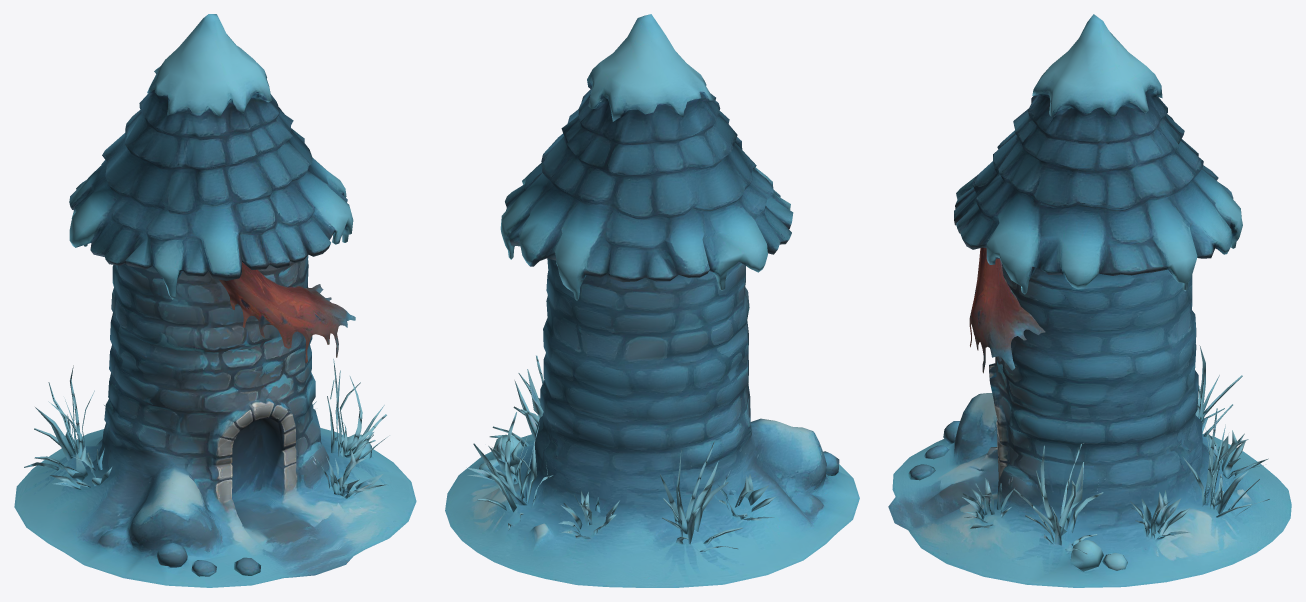
3 views of the same model, side by side, from view 1: azimuth 30°, elevation 25°; view 2: azimuth 150°, elevation 25°; view 3: azimuth 270°, elevation 25° (orthographic).
Visible parts, largest first — view 1: tripo_node_dd9947cd-6d1a-4929-b55b-4e95f97fa883; view 2: tripo_node_dd9947cd-6d1a-4929-b55b-4e95f97fa883; view 3: tripo_node_dd9947cd-6d1a-4929-b55b-4e95f97fa883.
Part boxes in pixels (<box>): tripo_node_dd9947cd-6d1a-4929-b55b-4e95f97fa883: <box>14,14,416,587</box>; tripo_node_dd9947cd-6d1a-4929-b55b-4e95f97fa883: <box>445,14,859,587</box>; tripo_node_dd9947cd-6d1a-4929-b55b-4e95f97fa883: <box>888,14,1291,587</box>.
Bounding box in the file's own units: 0.7324 × 0.998 × 0.7441.
1 material, 1 textured.
